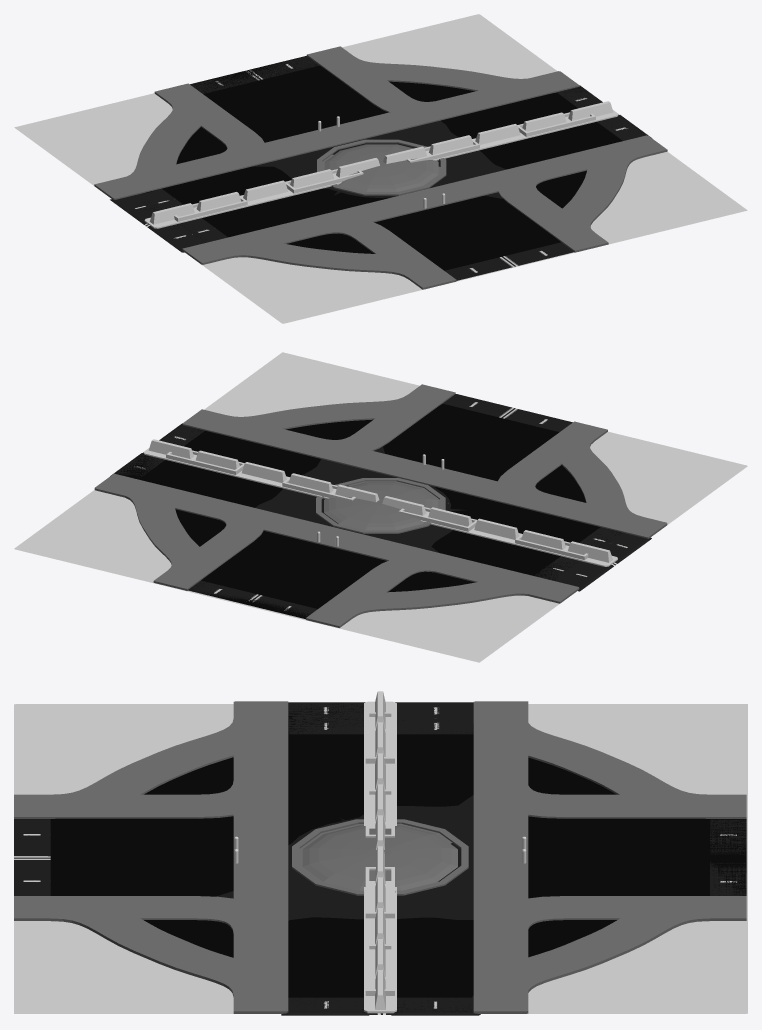
The model's file is roads.fbx.
3 views of the same model, one above another, from view 1: azimuth 30°, elevation 25°; view 2: azimuth 150°, elevation 25°; view 3: azimuth 270°, elevation 25° (orthographic). The views are drawn at different scales.
Parts seen in each view (by area): view 1: Roundabout, Road3, Road2, Intersection, Road4, Road1; view 2: Roundabout, Road2, Intersection, Road3, Road4, Road1; view 3: Roundabout, Road2, Intersection, Road4, Road3, Road1.
Part boxes in pixels (x1,y1,x2,y2): Roundabout: (117, 47, 644, 289); Road3: (14, 14, 687, 323); Road2: (17, 14, 745, 322); Intersection: (33, 15, 747, 301); Road4: (114, 16, 746, 323); Road1: (145, 111, 616, 228); Roundabout: (115, 384, 664, 627); Road2: (14, 352, 745, 661); Intersection: (39, 384, 746, 660); Road3: (15, 353, 747, 662); Road4: (25, 355, 744, 601); Road1: (144, 450, 616, 566); Roundabout: (14, 702, 746, 1013); Road2: (14, 691, 746, 1015); Intersection: (14, 701, 746, 1013); Road4: (14, 701, 746, 1015); Road3: (15, 701, 747, 1014); Road1: (364, 702, 396, 1013).
Size of the model in its own units: 2004 by 2024 by 48.31.
Materials: 6 (4 with a texture image).
